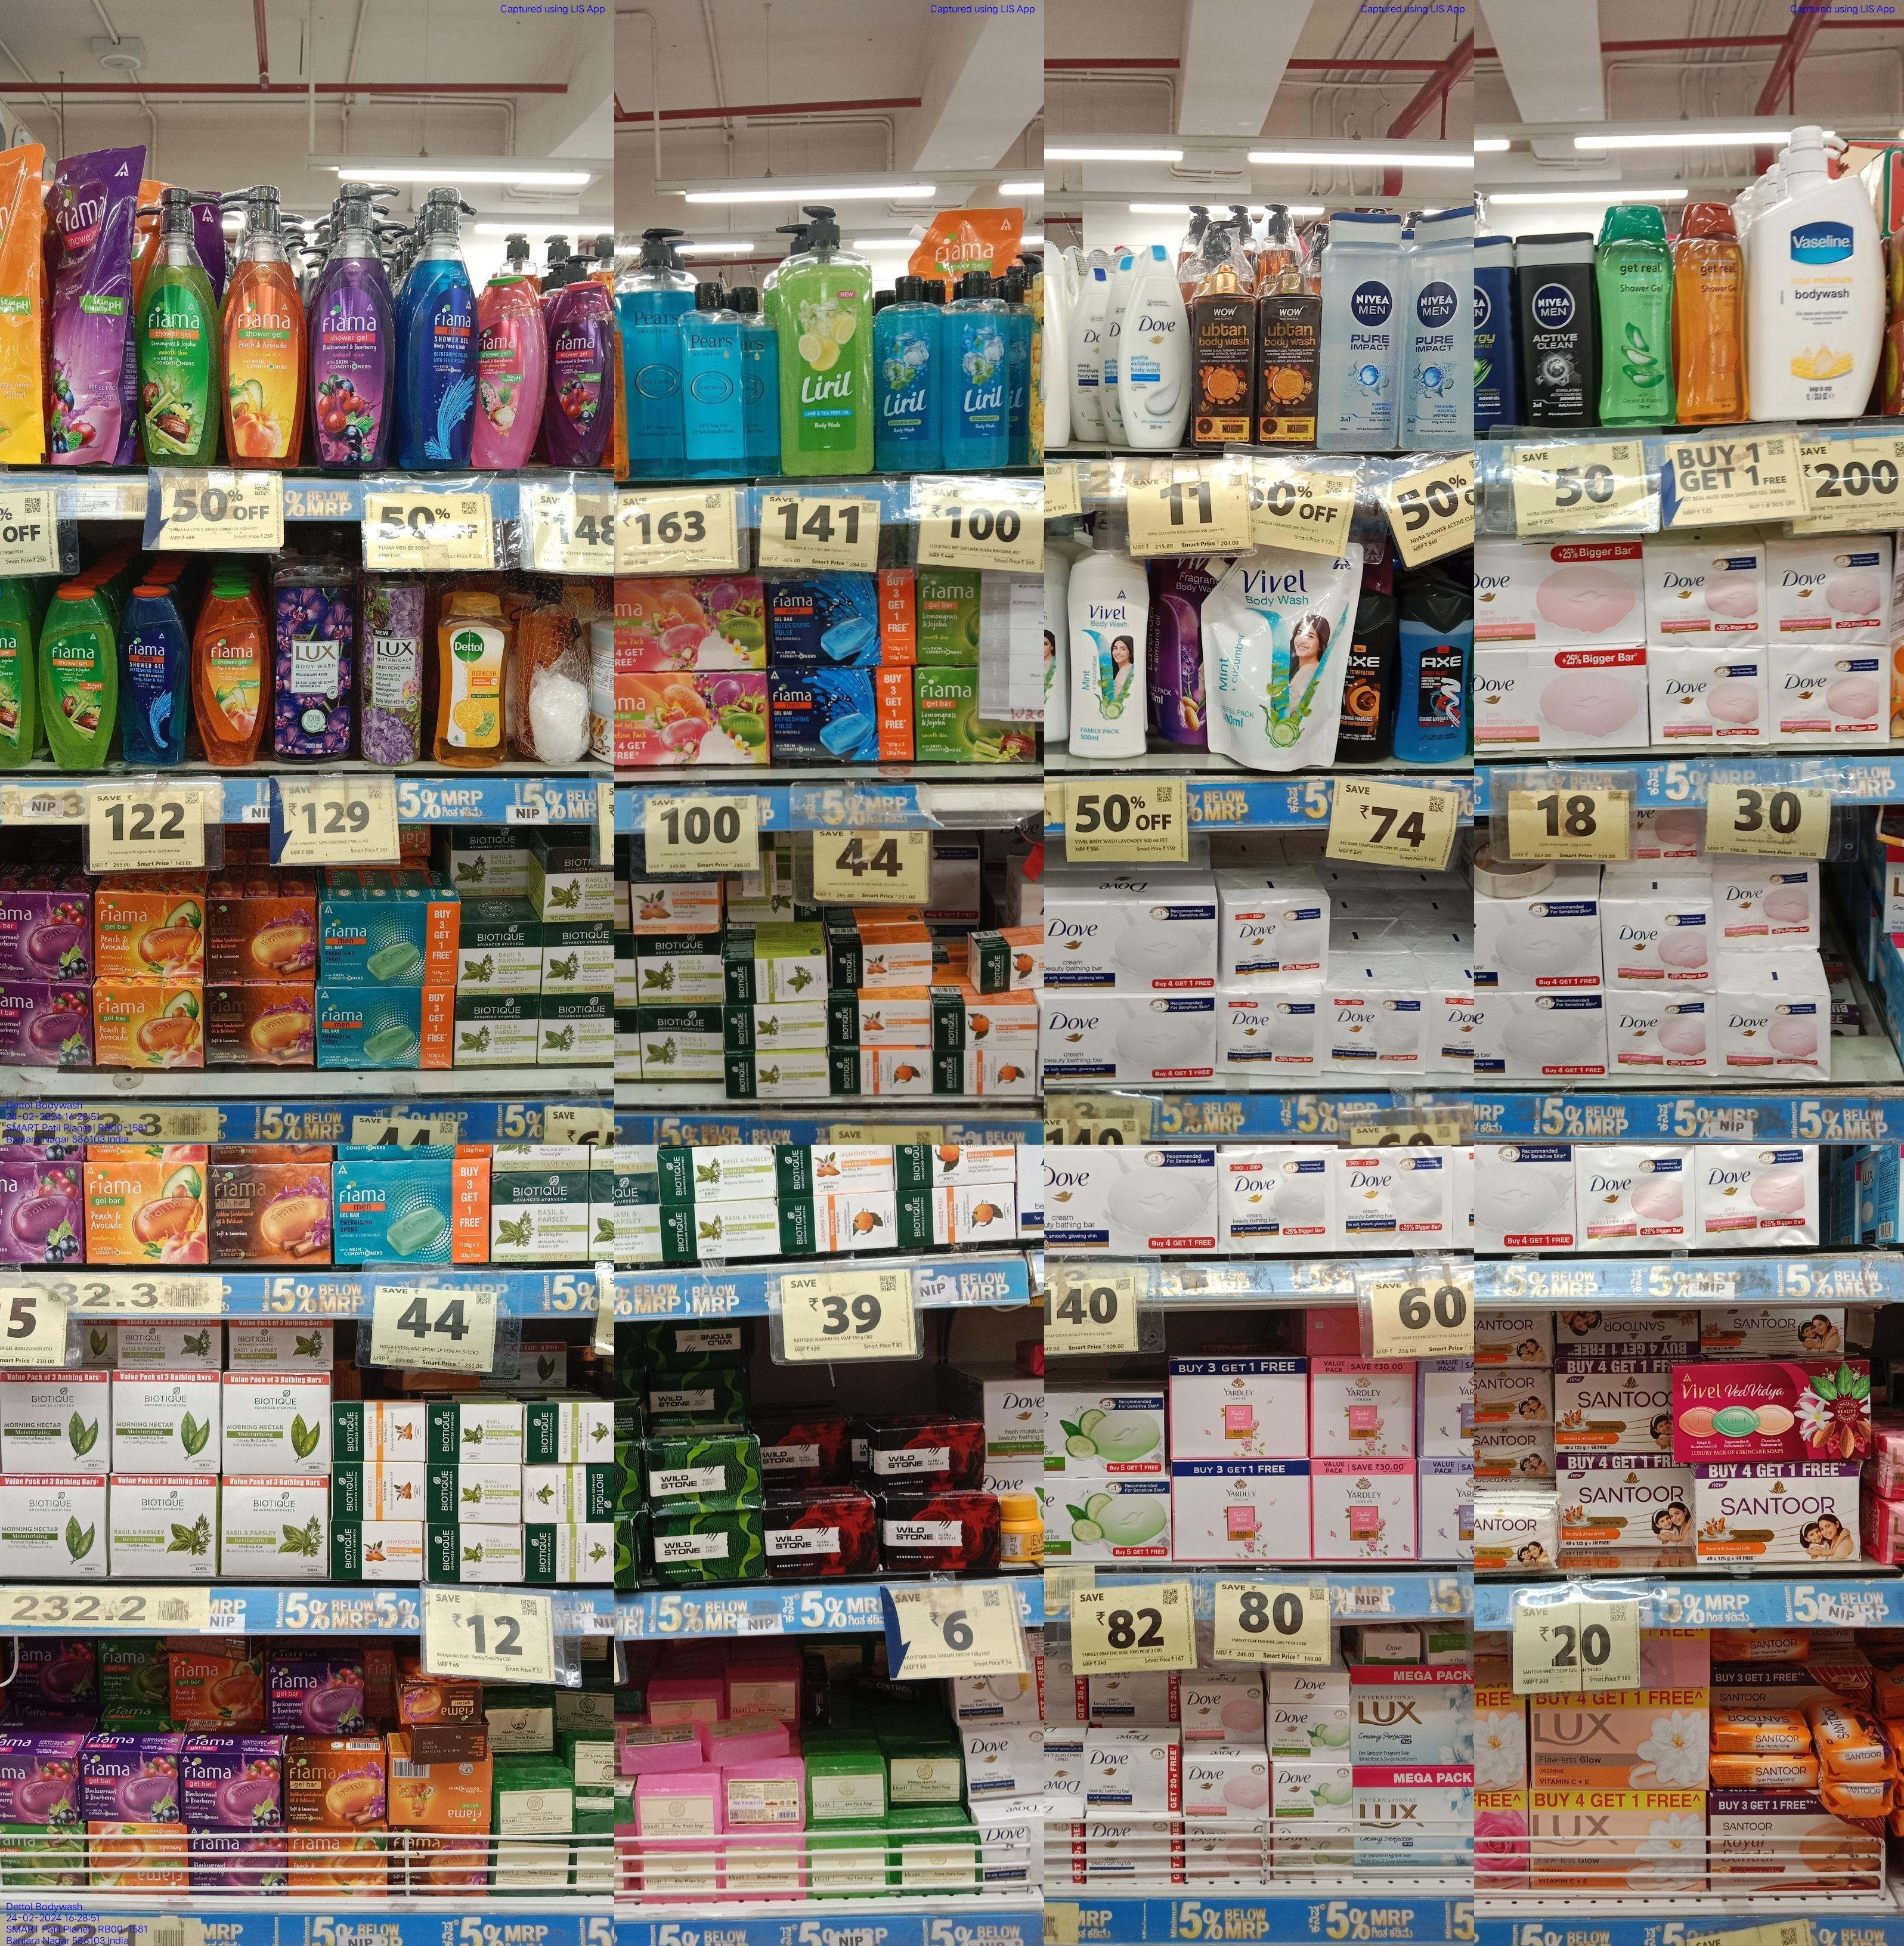Dettol_Bodywash_Refresh: (431, 598, 511, 767)
Dove_Gentle_Exfoliating_Body_Wash_250ML: (1119, 246, 1189, 446)
Fiama_Shower_Gel_Lemongrass_and_Jojoba_250ML: (42, 586, 122, 774)
Fiama_Shower_Gel_Patchouli_and_Macadamia_250ML: (473, 262, 542, 467)
Fiama_Shower_Gel_Peach_and_Avocado_250ML: (194, 582, 270, 762)
Get_Real_Shower_Gel_Moisturising_Glycerin_300ML: (1677, 208, 1749, 427)
Liril_Cooling_Mint_Body_Wash_250ML: (868, 277, 942, 471), (945, 270, 1008, 469)
Pears_Pure_Glycerin_and_Mint_Extracts_Body_Wash_250ML: (680, 289, 755, 469)
